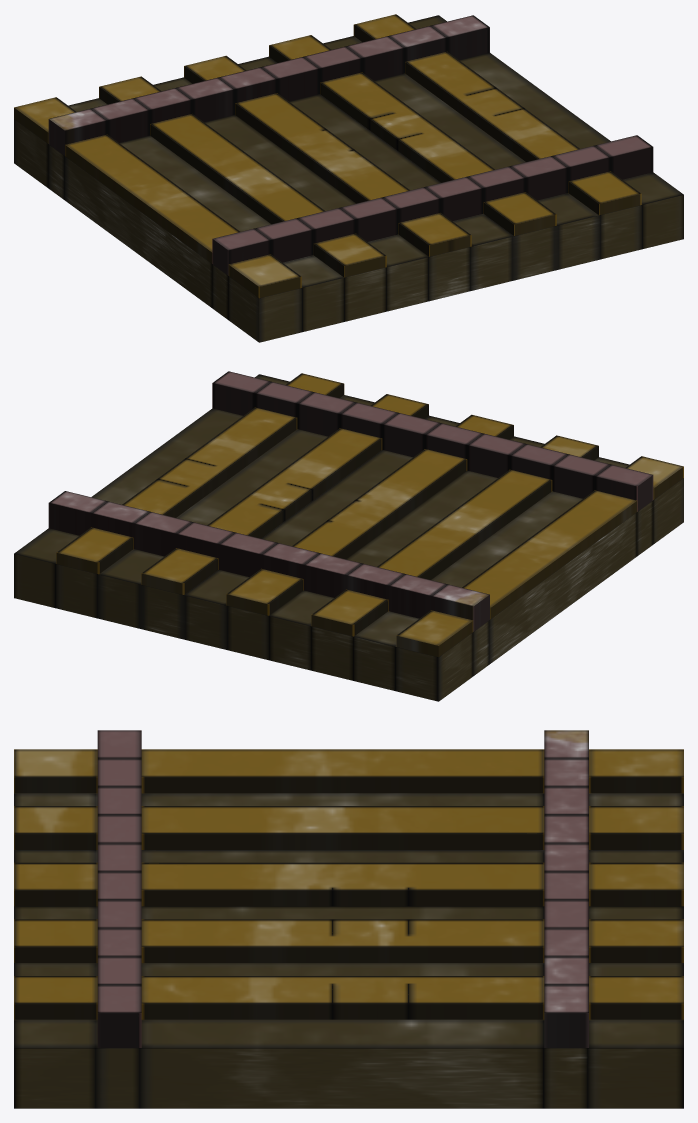
File: trainTracks_MTAsubway.fbx
3 renders of one model, top to bottom at view 1: azimuth 30°, elevation 25°; view 2: azimuth 150°, elevation 25°; view 3: azimuth 270°, elevation 25°, orthographic. The views are drawn at different scales.
Parts seen in each view (by area): view 1: Tracks; view 2: Tracks; view 3: Tracks.
Part boxes in pixels (box(x1,y1,x2,y2)): Tracks: box(14, 14, 683, 342); Tracks: box(14, 371, 683, 701); Tracks: box(14, 730, 683, 1108).
Size of the model in its own units: 2000 by 314 by 2000.
